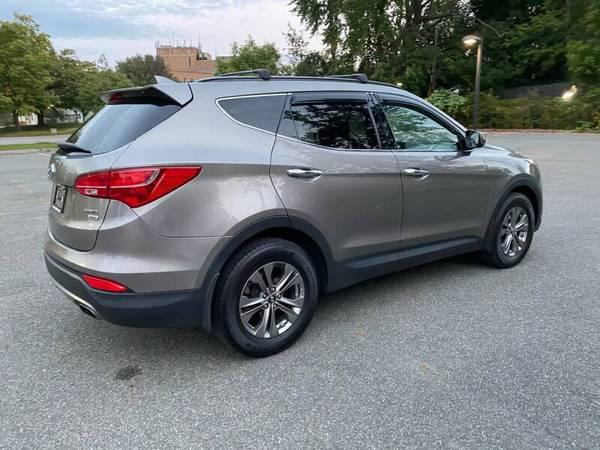Front_Bumper: (40, 197, 244, 324)
Front_Fender: (482, 144, 544, 245)
Front_Right_Door: (395, 150, 491, 264)
Front_Right_Window: (375, 94, 473, 153)
Rear_Fender: (113, 93, 288, 236)
Rear_Right_Door: (271, 134, 402, 289)
Rear_Right_Window: (277, 92, 394, 150)
Rear_Windshield: (57, 93, 181, 154)
Right_Taillight: (70, 165, 203, 209)
Roof: (101, 75, 468, 141)
Tailgate: (48, 138, 131, 247)
Wheel: (220, 238, 324, 351), (492, 196, 538, 267)
